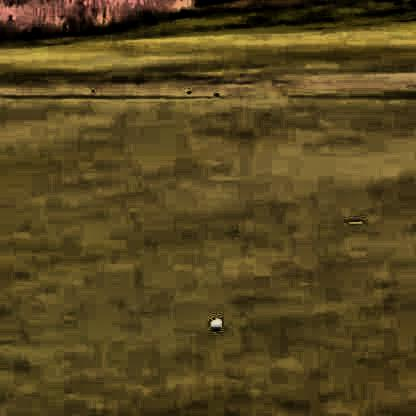golfball: (207, 314, 221, 329)
